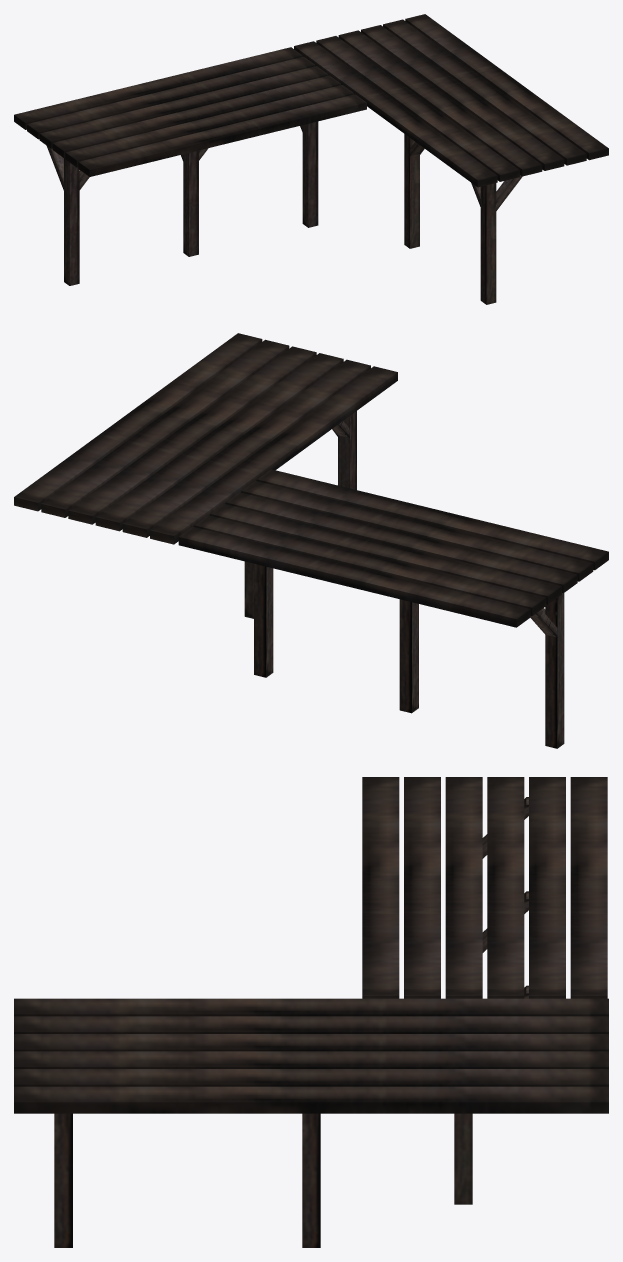
Rendered from platform.fbx.
3 views of the same model, one above another, from view 1: azimuth 30°, elevation 25°; view 2: azimuth 150°, elevation 25°; view 3: azimuth 270°, elevation 25° (orthographic). The views are drawn at different scales.
Parts seen in each view (by area): view 1: tuentuki8; view 2: tuentuki8; view 3: tuentuki8.
Boxes of the visible parts, x1=… form: tuentuki8: x1=14, y1=14, x2=608, y2=304; tuentuki8: x1=14, y1=333, x2=608, y2=748; tuentuki8: x1=14, y1=777, x2=608, y2=1247.
Bounding box in the file's own units: 15.52 × 5 × 12.
